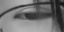RightEyeFatigue: (12, 8, 59, 27)
